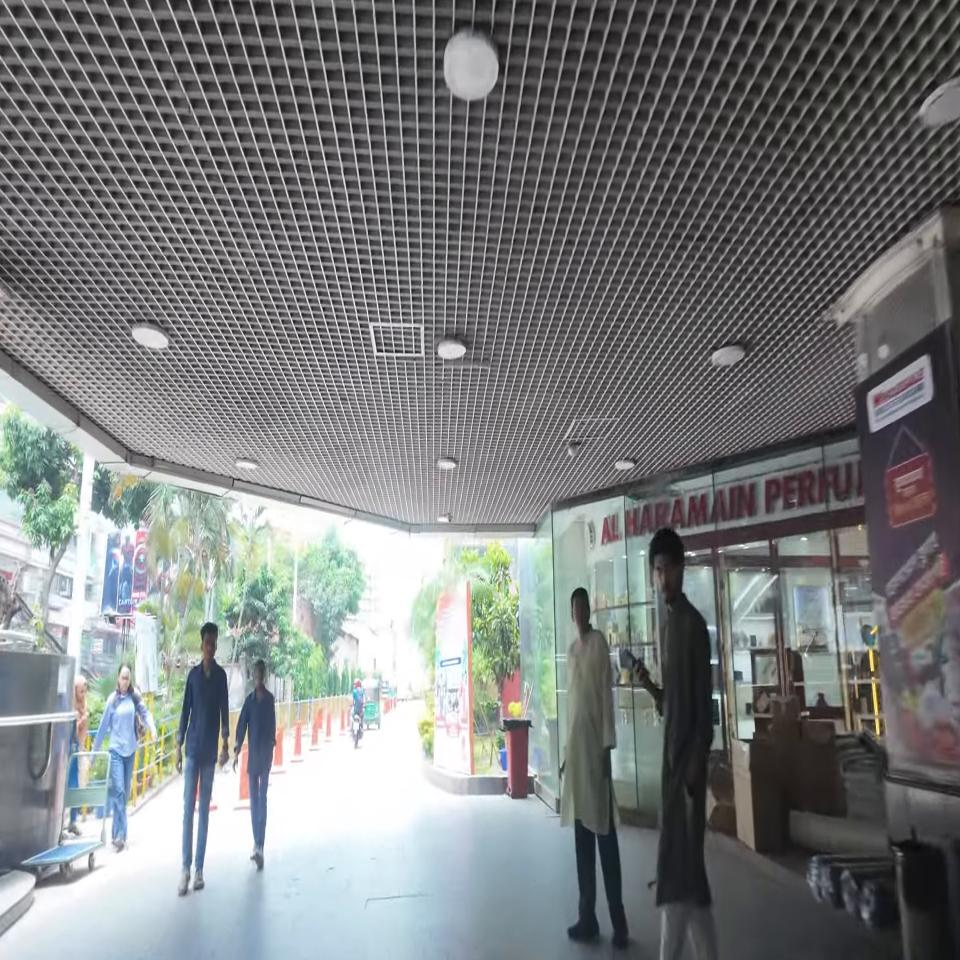person: (234, 660, 276, 870)
